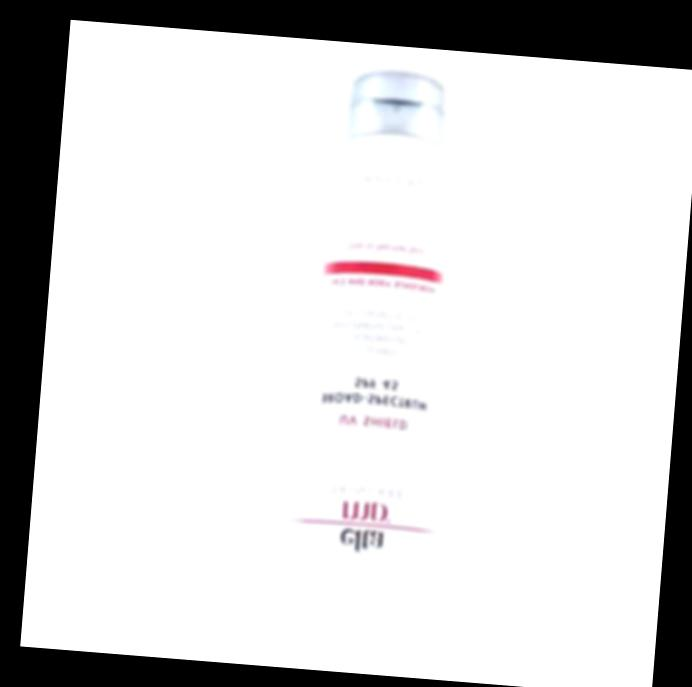cosmetic: (264, 62, 492, 644)
